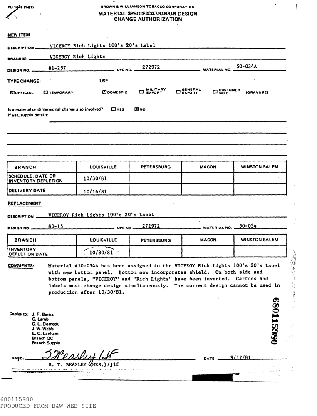checkbox: (10, 90, 15, 95), (43, 90, 48, 95), (102, 90, 107, 94), (139, 90, 144, 94), (176, 90, 181, 94), (213, 90, 218, 94), (111, 107, 116, 111), (134, 107, 139, 111)
textbox: (75, 171, 131, 186), (127, 183, 183, 197), (75, 245, 131, 259), (128, 171, 183, 185), (180, 171, 235, 185), (233, 171, 288, 185), (233, 182, 288, 196), (180, 182, 235, 196), (75, 182, 130, 196), (128, 245, 183, 259), (181, 245, 236, 259), (233, 244, 288, 258)
textline: (7, 136, 287, 146), (7, 126, 287, 135), (7, 148, 287, 157), (36, 209, 288, 219), (48, 114, 287, 124), (35, 41, 286, 50), (25, 348, 196, 361), (28, 54, 286, 61), (30, 223, 115, 230), (31, 65, 115, 72), (134, 64, 200, 72), (216, 354, 288, 361), (132, 223, 202, 230), (233, 63, 287, 72), (233, 223, 288, 230)
